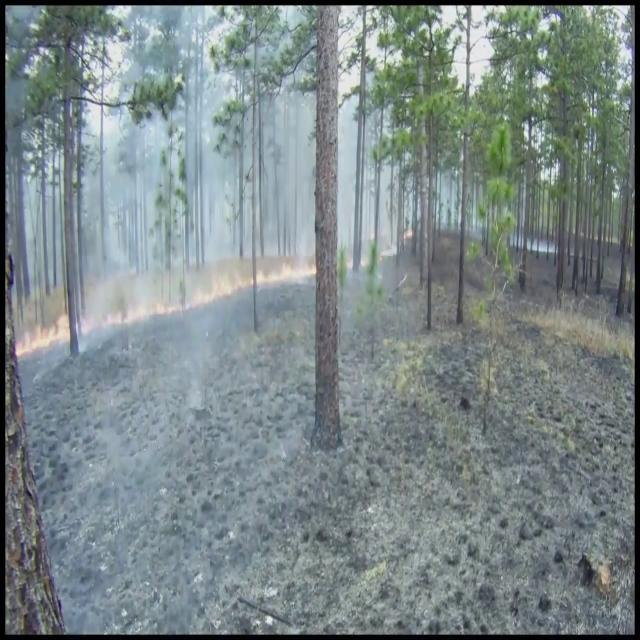Smoke: (84, 19, 398, 408)
